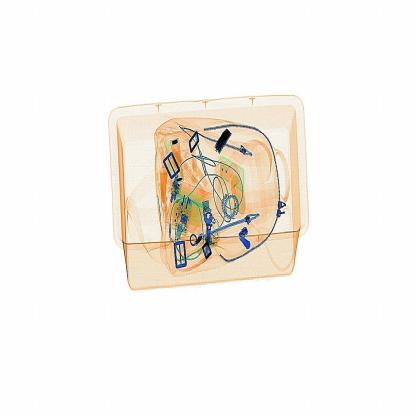scissors: (211, 118, 240, 162)
